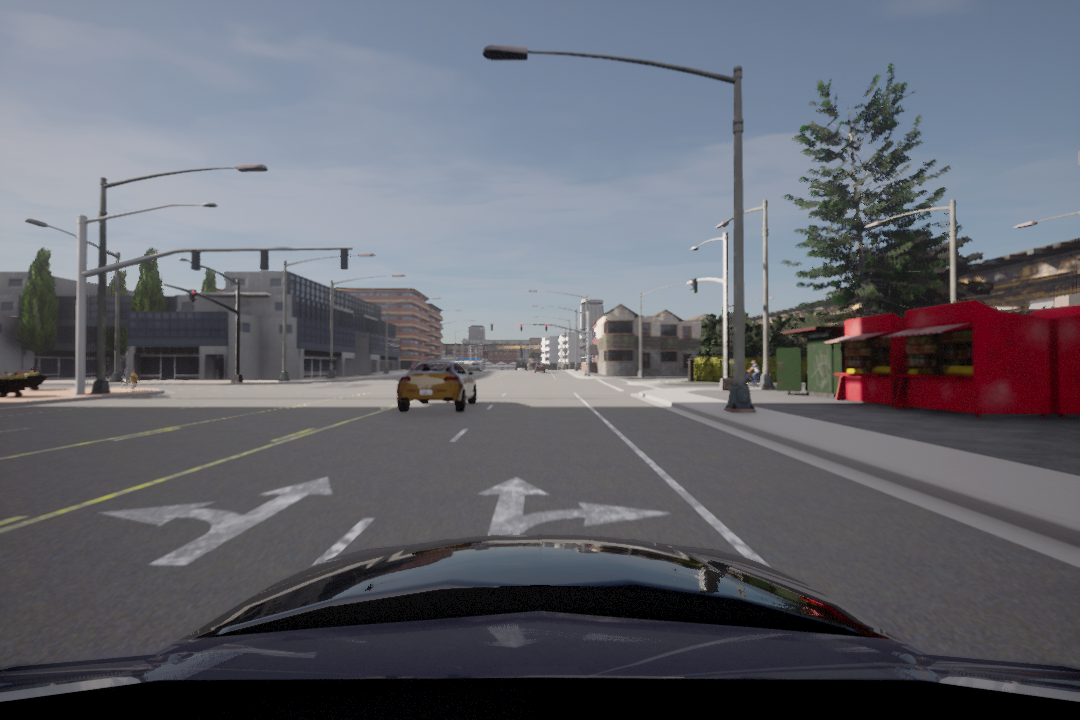RoadSign_forward_left: (84, 474, 336, 564)
RoadSign_forward_right: (470, 468, 671, 550)
